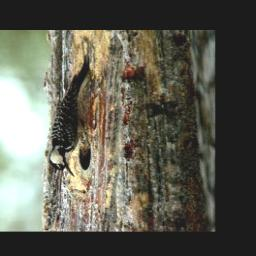Woodpecker: (43, 46, 100, 181)
